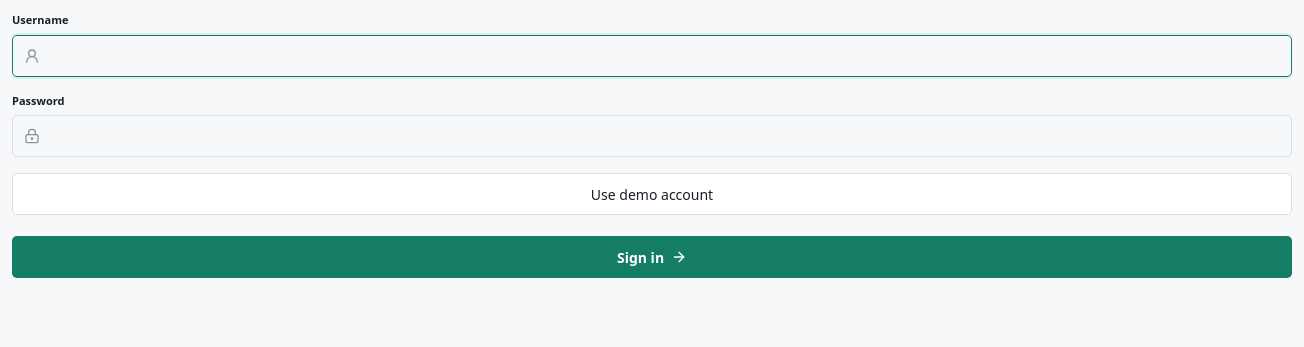
LoginForm › fills the demo credentials and sends them to the session endpoint
Click the button "Use demo account" at [652, 194], box [12,173,1292,215]
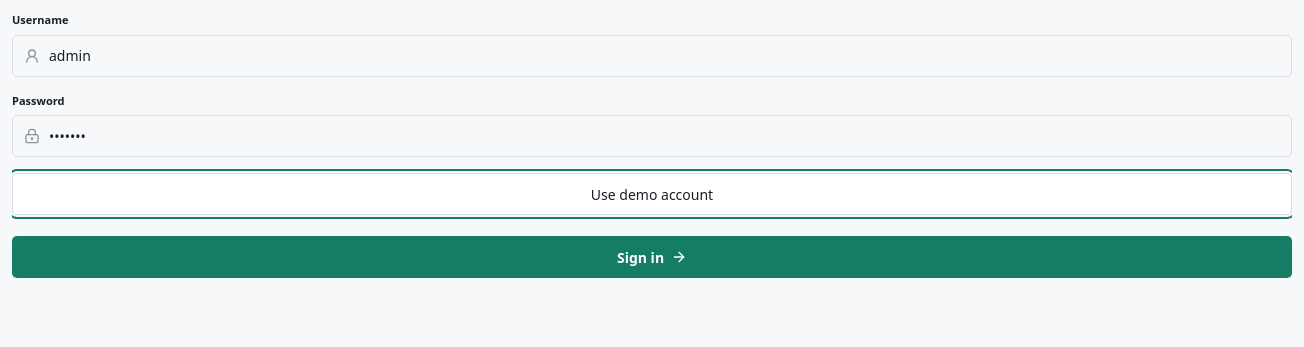
Check: the field labelled "Username" holds "admin", box [49,45,1280,66]
Check: the password field labelled "Password" holds "pass123", box [49,126,1280,146]
Click the button "Sign in" at [652, 257], box [12,236,1292,278]
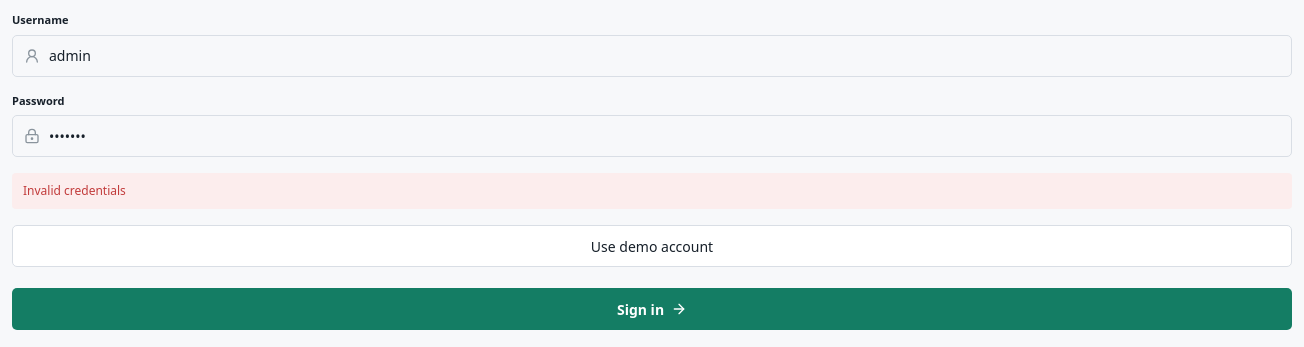
Check: the message reads "Invalid credentials", box [23,182,126,199]
